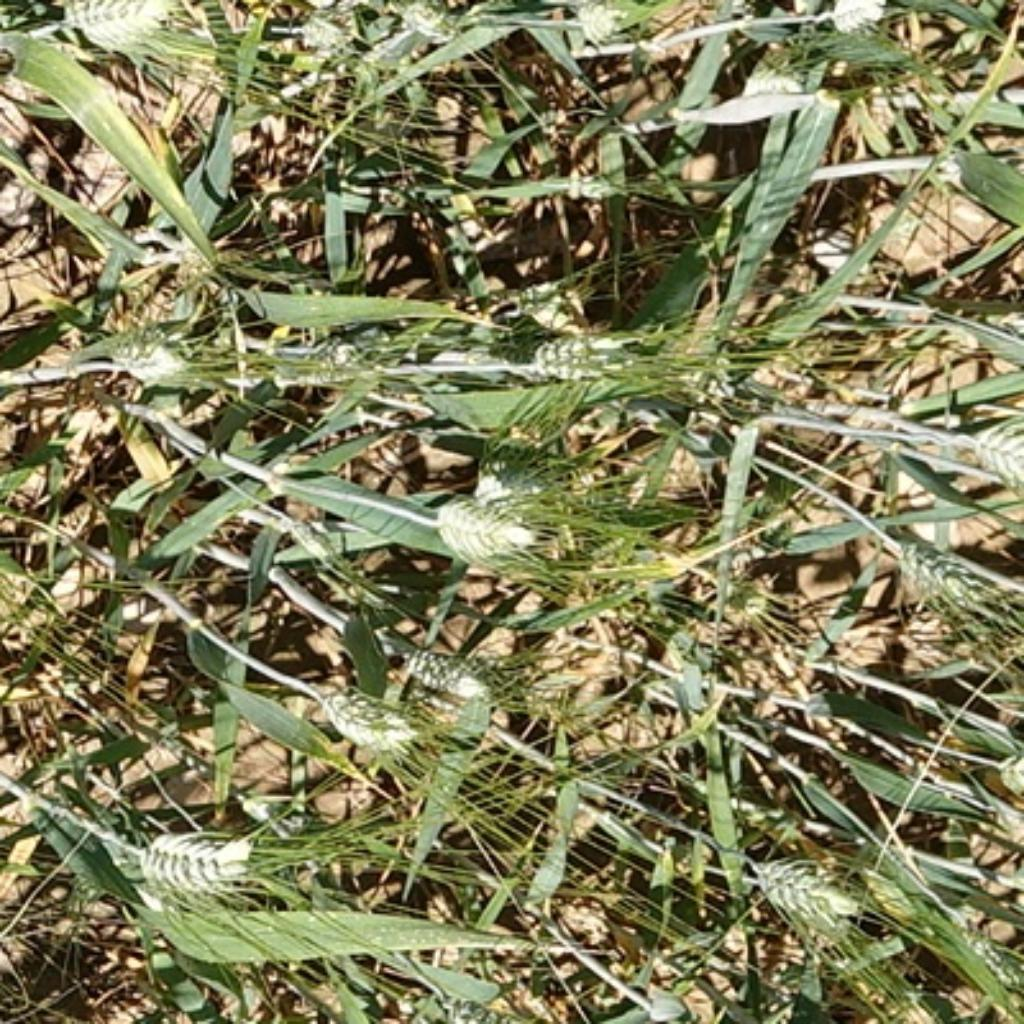0-0: (504, 312, 670, 394), (256, 317, 414, 396), (302, 665, 419, 760), (120, 816, 253, 898), (742, 839, 857, 931), (883, 519, 998, 611), (399, 629, 501, 714), (424, 486, 535, 560), (935, 910, 1024, 998), (366, 0, 478, 51), (59, 0, 192, 42), (960, 407, 1024, 488), (110, 336, 202, 391), (471, 455, 545, 522), (714, 583, 793, 645), (158, 220, 222, 289), (289, 0, 363, 56), (737, 46, 814, 94), (0, 555, 34, 663), (565, 0, 647, 40), (737, 48, 808, 94), (830, 0, 895, 42), (422, 0, 488, 2)
